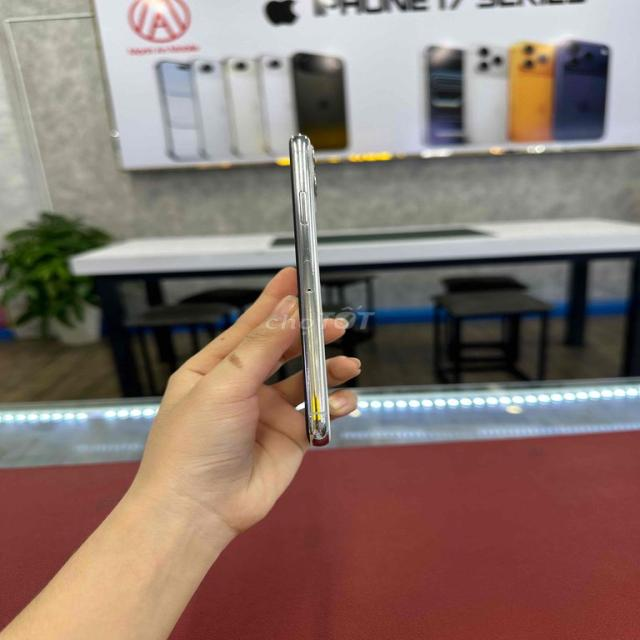gen_11: (280, 133, 348, 452)
scratch: (294, 329, 334, 438), (299, 224, 319, 287)
